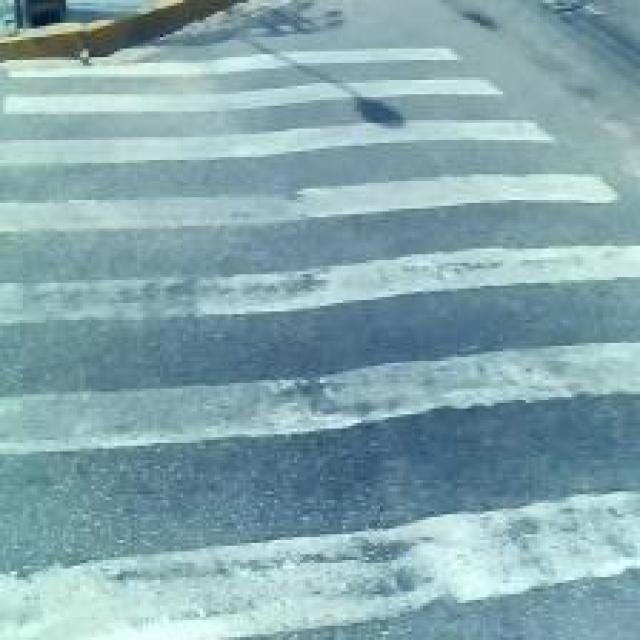zebra: (16, 57, 616, 640)
